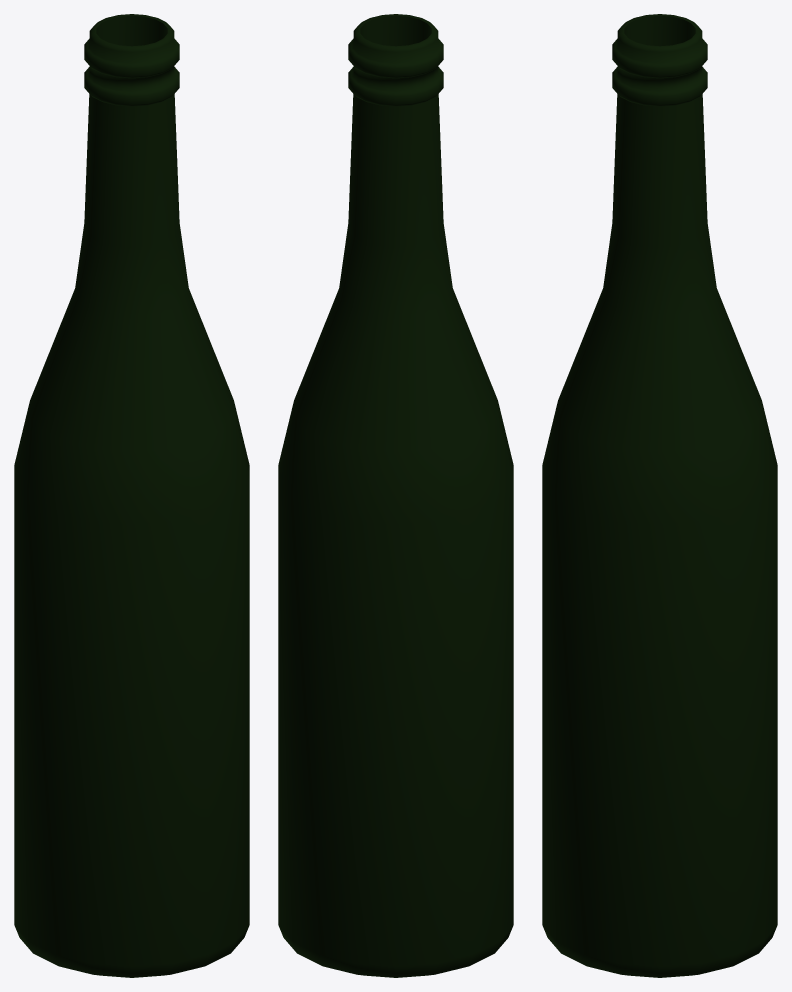
3 views of the same model, side by side, from view 1: azimuth 30°, elevation 25°; view 2: azimuth 150°, elevation 25°; view 3: azimuth 270°, elevation 25° (orthographic).
Visible parts, largest first — view 1: Bottle; view 2: Bottle; view 3: Bottle.
Boxes of the visible parts, x1,y1,x2,y2 form: Bottle: [14, 14, 249, 977]; Bottle: [278, 14, 513, 977]; Bottle: [542, 14, 777, 977].
Bounding box in the file's own units: 22.84 × 95.78 × 22.49.
